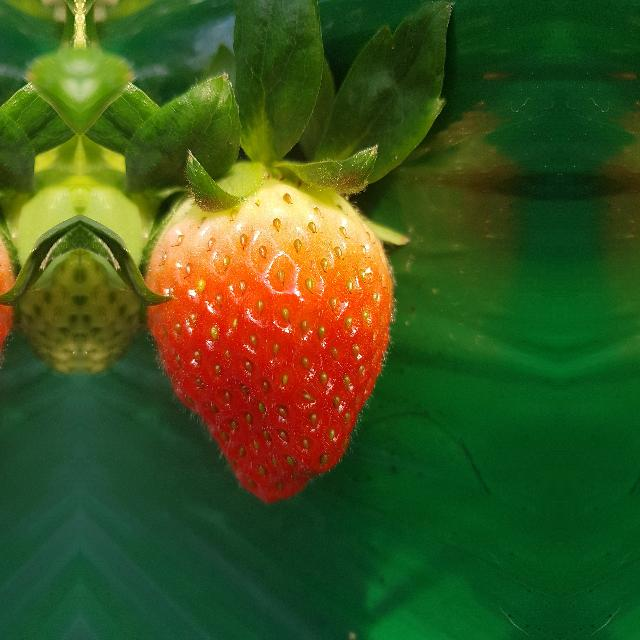Health_100: (142, 166, 396, 504)
